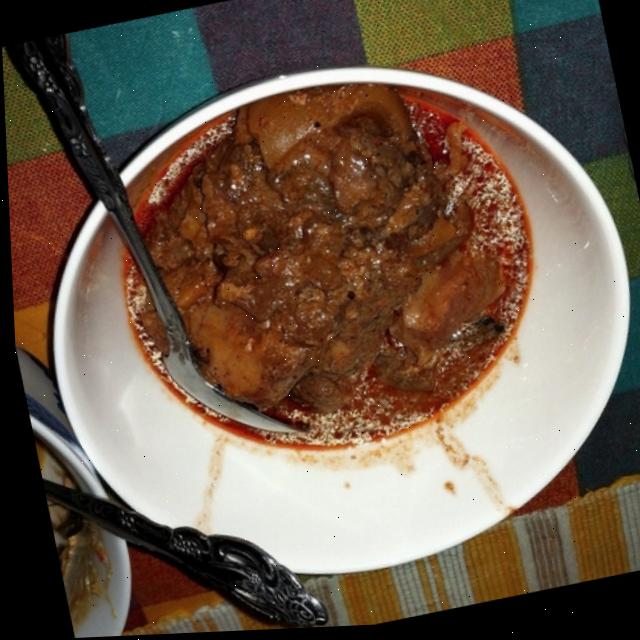熟制海鲜: (1, 5, 640, 640)
